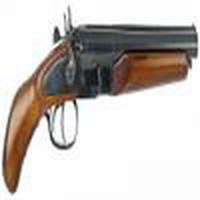gun: (4, 15, 200, 192)
